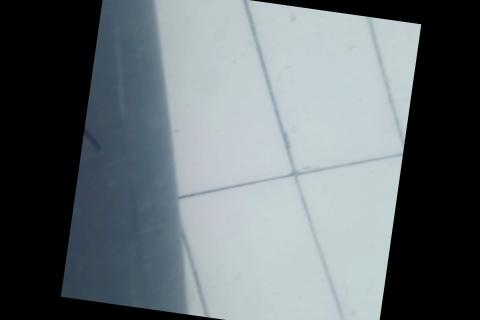keretakan: (80, 106, 109, 151)
